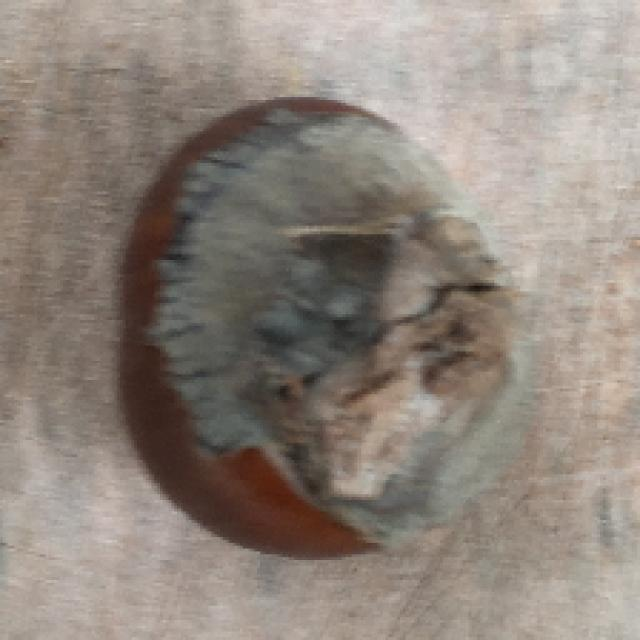damagedHazelnut: (103, 91, 528, 566)
